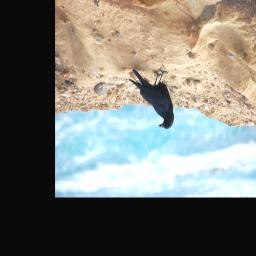Crow: (129, 67, 174, 132)
